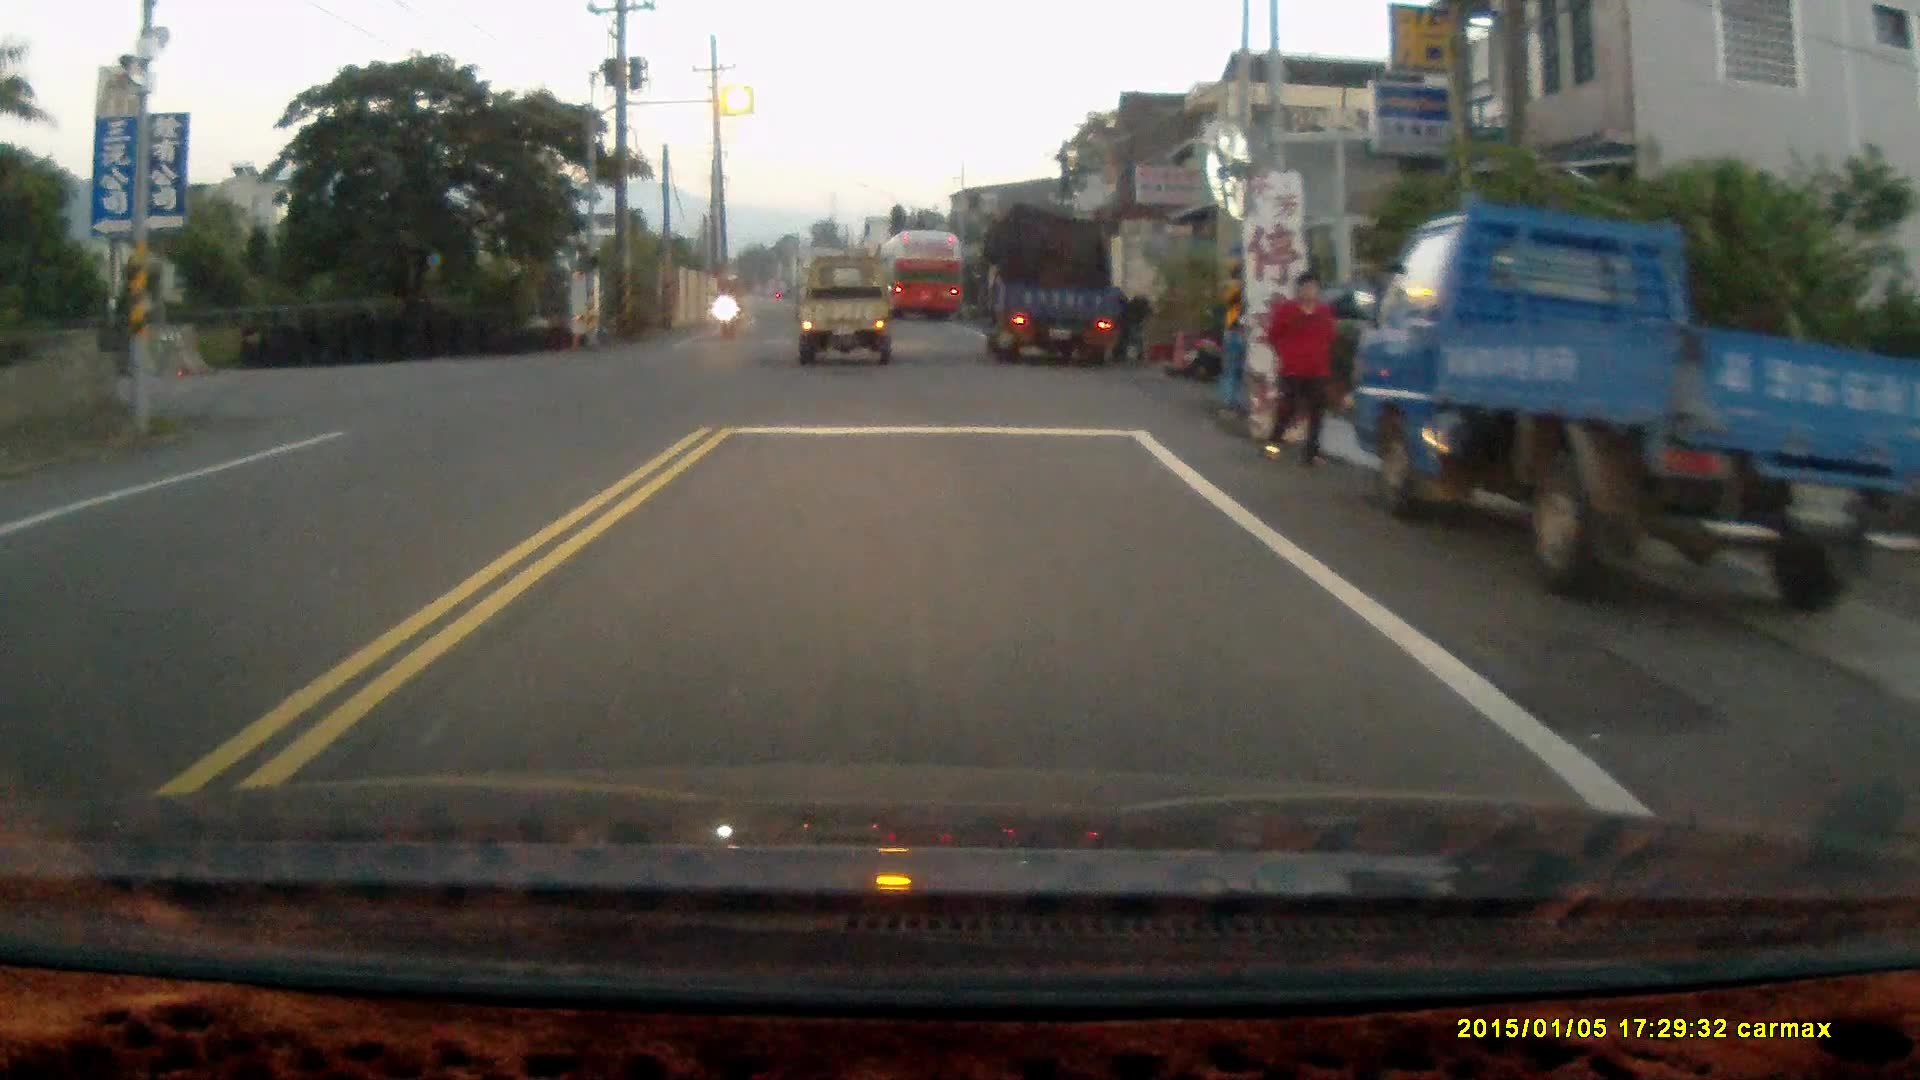pedestrian: (1259, 269, 1339, 474)
rider: (711, 273, 740, 338)
vehicle: (1356, 196, 1920, 595), (987, 214, 1144, 382), (804, 261, 901, 373), (883, 232, 969, 326)
